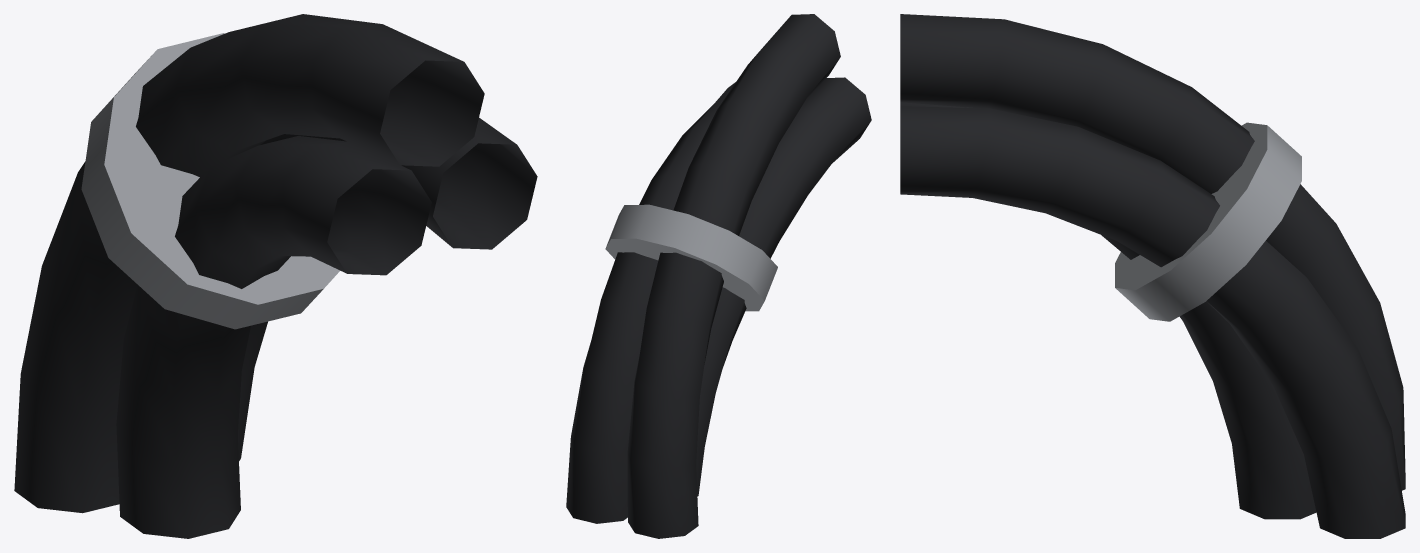
Rendered from bend_down_south.obj.
3 renders of one model, left to right at view 1: azimuth 30°, elevation 25°; view 2: azimuth 150°, elevation 25°; view 3: azimuth 270°, elevation 25°, orthographic. The views are drawn at different scales.
Parts seen in each view (by area): view 1: bend_down_south; view 2: bend_down_south; view 3: bend_down_south.
Boxes of the visible parts, x1,y1,x2,y2 form: bend_down_south: (14, 14, 537, 538); bend_down_south: (566, 14, 871, 538); bend_down_south: (900, 14, 1405, 538).
Bounding box in the file's own units: 0.2475 × 0.614 × 0.5798.
